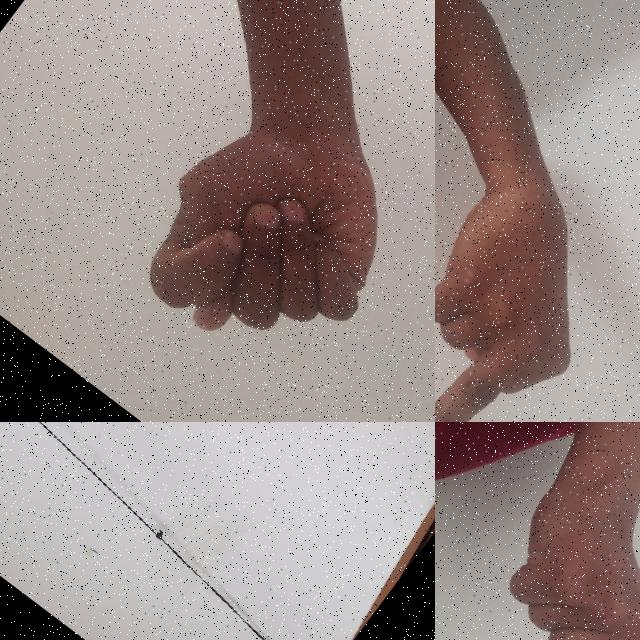Dulya: (105, 44, 435, 407), (443, 440, 640, 640)
Middle Finger: (435, 134, 640, 422)
